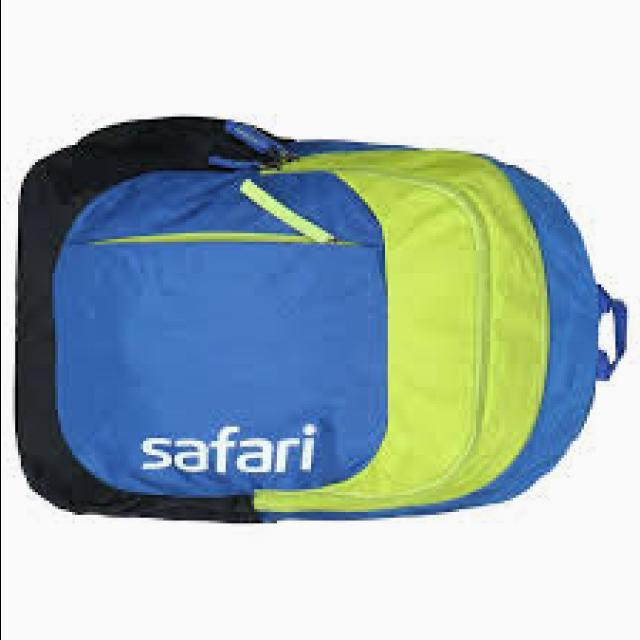backpack: (16, 115, 630, 525)
